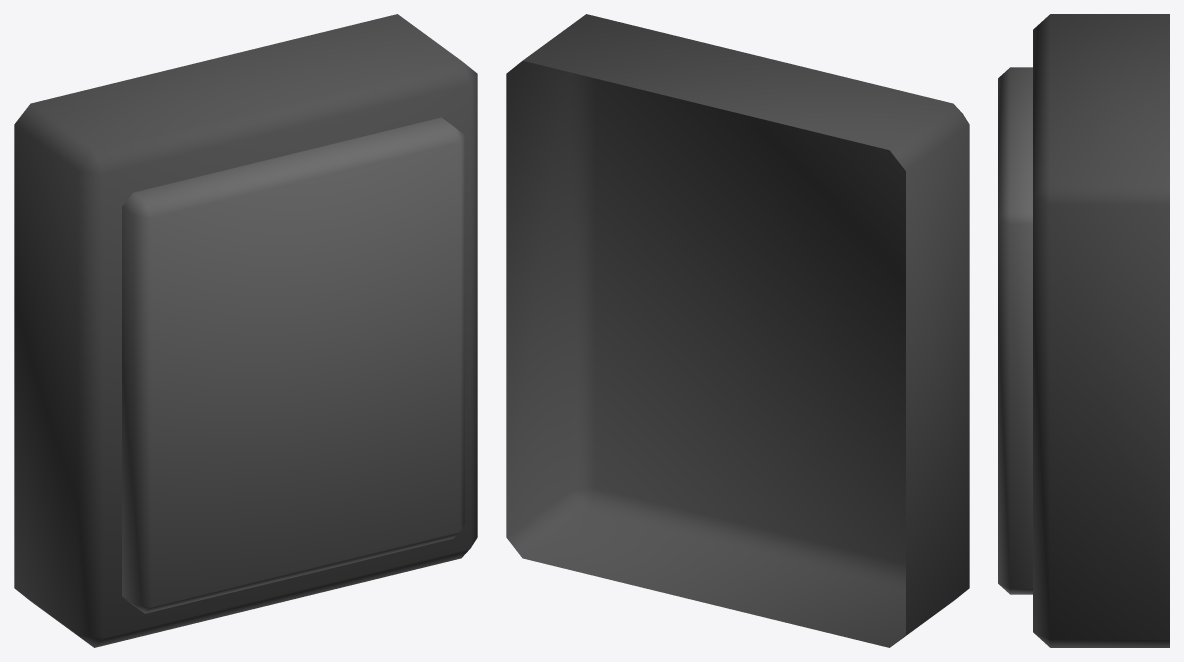
File: ElectricBox_2_D_1.fbx
3 views of the same model, side by side, from view 1: azimuth 30°, elevation 25°; view 2: azimuth 150°, elevation 25°; view 3: azimuth 270°, elevation 25° (orthographic). The views are drawn at different scales.
Visible parts, largest first — view 1: ElectricBox_2_D_1; view 2: ElectricBox_2_D_1; view 3: ElectricBox_2_D_1.
Part boxes in pixels (bbox=[...]): ElectricBox_2_D_1: bbox=[14, 14, 477, 647]; ElectricBox_2_D_1: bbox=[506, 14, 969, 647]; ElectricBox_2_D_1: bbox=[998, 14, 1169, 647].
Size of the model in its own units: 38.15 by 45.42 by 15.17.
